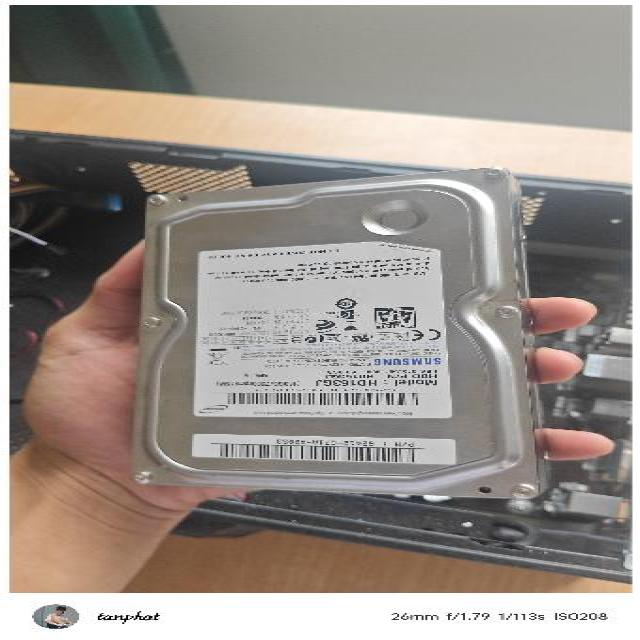DISK: (137, 165, 558, 506)
